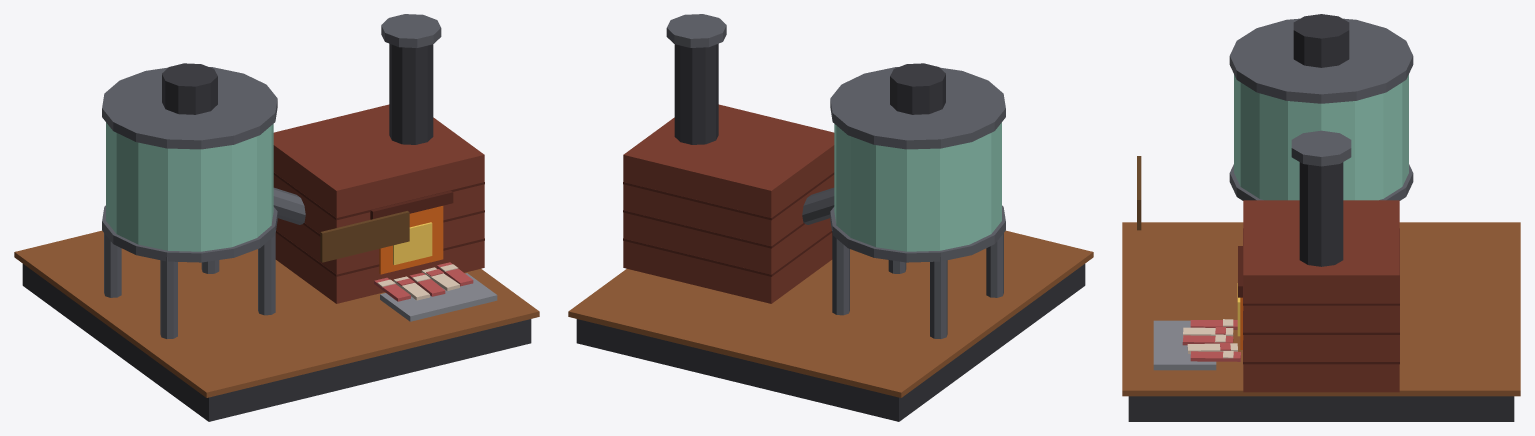
File: bacon_beacon.obj
3 renders of one model, left to right at view 1: azimuth 30°, elevation 25°; view 2: azimuth 150°, elevation 25°; view 3: azimuth 270°, elevation 25°, orthographic. The views are drawn at different scales.
Visible parts, largest first — view 1: geometry_1, geometry_15, geometry_6, geometry_0, geometry_9, geometry_22, geometry_35, geometry_10, geometry_24, geometry_8, geometry_23, geometry_19 (+6 smaller); view 2: geometry_1, geometry_15, geometry_6, geometry_0, geometry_9, geometry_22, geometry_10, geometry_8, geometry_23, geometry_2, geometry_4, geometry_3 (+4 smaller); view 3: geometry_1, geometry_15, geometry_6, geometry_9, geometry_0, geometry_22, geometry_10, geometry_24, geometry_23, geometry_8, geometry_18, geometry_16 (+4 smaller).
Boxes of the visible parts, <box> form: geometry_1: <box>14,230,539,397</box>; geometry_15: <box>273,104,484,303</box>; geometry_6: <box>106,122,273,251</box>; geometry_0: <box>22,264,531,421</box>; geometry_9: <box>102,67,277,149</box>; geometry_22: <box>389,43,433,144</box>; geometry_35: <box>320,211,409,262</box>; geometry_10: <box>162,63,217,114</box>; geometry_24: <box>380,273,497,321</box>; geometry_8: <box>102,205,277,262</box>; geometry_23: <box>381,14,441,47</box>; geometry_19: <box>379,206,443,274</box>; geometry_1: <box>568,230,1093,397</box>; geometry_15: <box>623,104,834,303</box>; geometry_6: <box>834,122,1001,251</box>; geometry_0: <box>576,264,1085,421</box>; geometry_9: <box>830,67,1005,149</box>; geometry_22: <box>674,43,718,144</box>; geometry_10: <box>890,63,945,114</box>; geometry_8: <box>830,205,1005,262</box>; geometry_23: <box>666,14,726,47</box>; geometry_2: <box>930,257,947,338</box>; geometry_4: <box>832,230,849,315</box>; geometry_3: <box>986,233,1003,297</box>; geometry_1: <box>1122,222,1520,396</box>; geometry_15: <box>1243,200,1399,392</box>; geometry_6: <box>1234,74,1408,200</box>; geometry_9: <box>1229,18,1413,103</box>; geometry_0: <box>1128,396,1514,421</box>; geometry_22: <box>1299,162,1343,266</box>; geometry_10: <box>1293,14,1349,67</box>; geometry_24: <box>1153,320,1216,370</box>; geometry_23: <box>1291,130,1351,166</box>; geometry_8: <box>1229,164,1413,200</box>; geometry_18: <box>1243,228,1399,305</box>; geometry_16: <box>1243,335,1399,364</box>.
Size of the model in its own units: 1.93 by 1.43 by 1.91.
